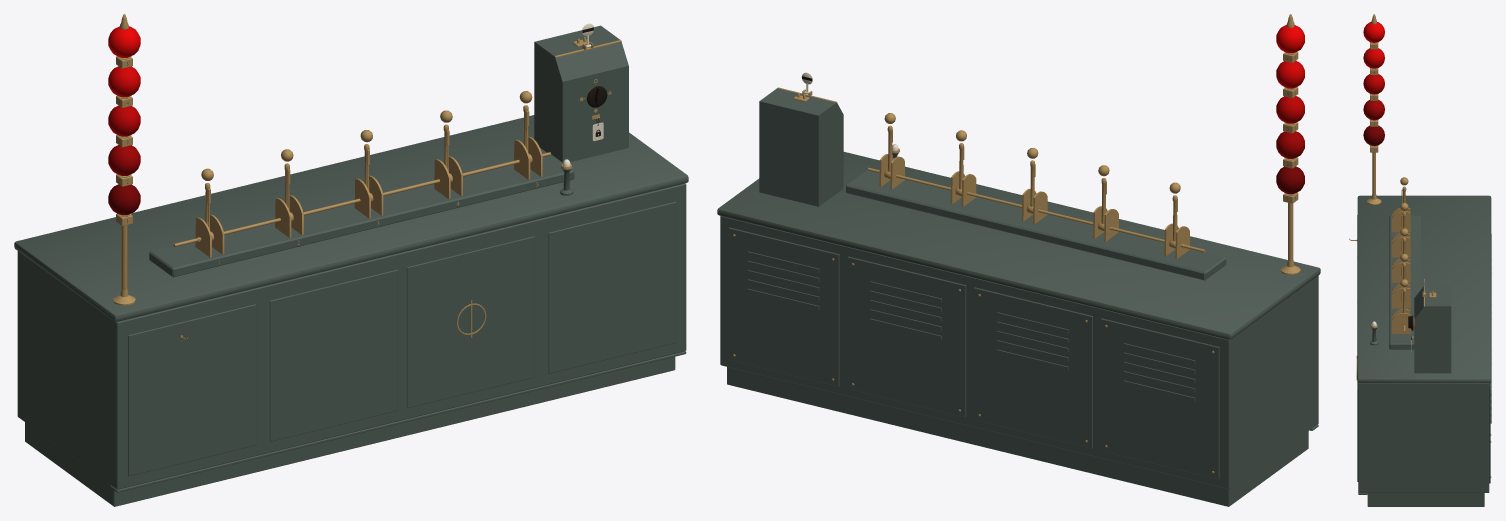
File: control_desk.glb
3 renders of one model, left to right at view 1: azimuth 30°, elevation 25°; view 2: azimuth 150°, elevation 25°; view 3: azimuth 270°, elevation 25°, orthographic. The views are drawn at different scales.
Visible parts, largest first — view 1: control_desk, step_globes; view 2: control_desk, step_globes; view 3: control_desk, step_globes.
Part boxes in pixels (bbox=[...]): control_desk: bbox=[14, 14, 688, 506]; step_globes: bbox=[108, 26, 140, 215]; control_desk: bbox=[717, 14, 1320, 506]; step_globes: bbox=[1276, 25, 1304, 194]; control_desk: bbox=[1356, 14, 1491, 506]; step_globes: bbox=[1363, 22, 1384, 145].
Size of the model in its own units: 2.6 by 2.1 by 0.8512.
